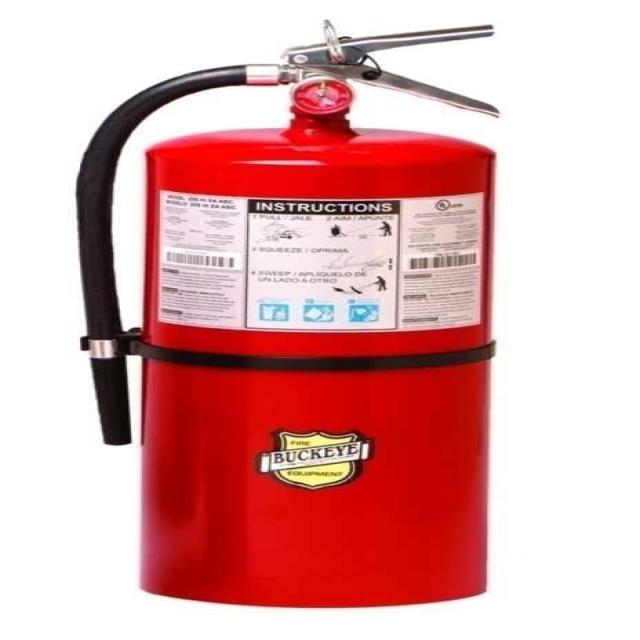fire_extinguisher: (66, 14, 513, 616)
